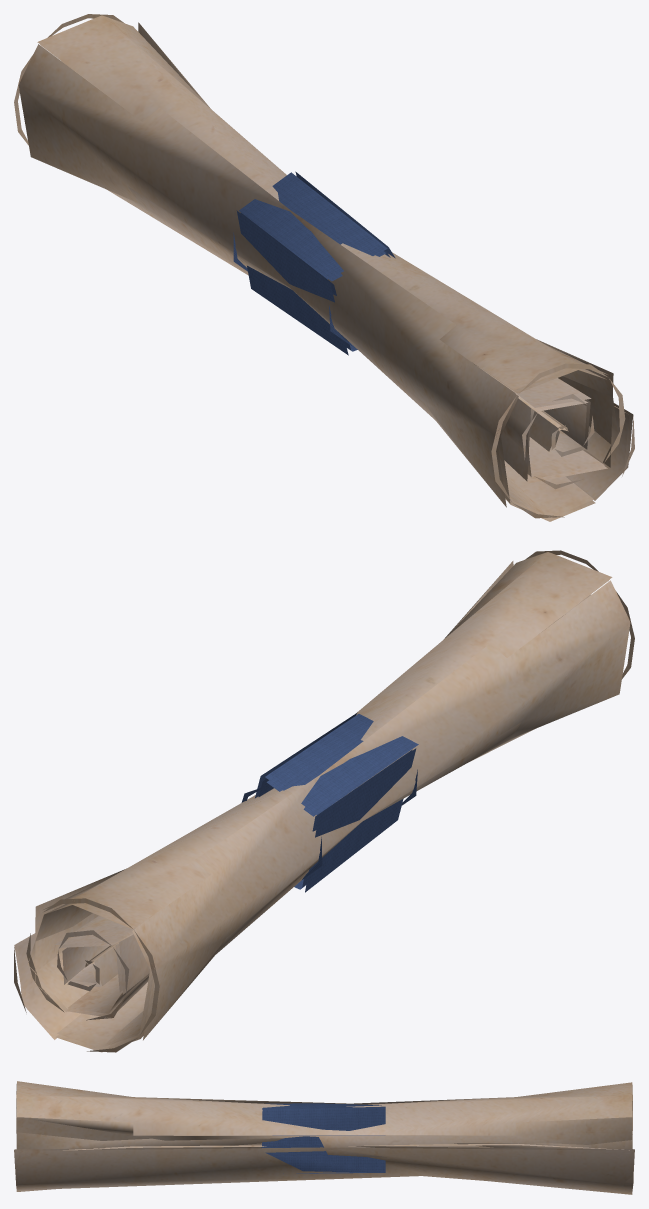
Rendered from scroll.glb.
The picture shows the model from 3 angles, top to bottom: view 1: azimuth 30°, elevation 25°; view 2: azimuth 150°, elevation 25°; view 3: azimuth 270°, elevation 25°; orthographic projection. The views are drawn at different scales.
Visible parts, largest first — view 1: Scroll_Paper_0; view 2: Scroll_Paper_0; view 3: Scroll_Paper_0.
Boxes of the visible parts, left/top/right/bottom form: Scroll_Paper_0: left=14, top=14, right=634, bottom=521; Scroll_Paper_0: left=14, top=550, right=634, bottom=1052; Scroll_Paper_0: left=14, top=1081, right=634, bottom=1194.
Size of the model in its own units: 0.0209 by 0.0212 by 0.1198.
Materials: 2 (2 with a texture image).
